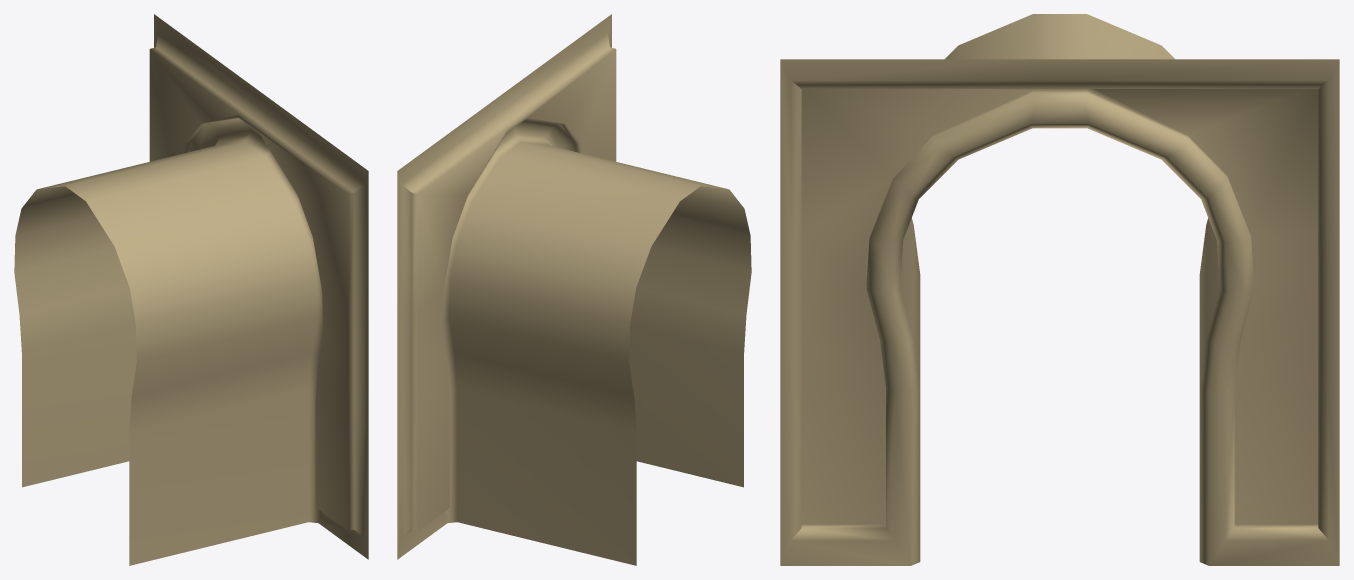
Rendered from Maze_DoorWall 1.fbx.
The picture shows the model from 3 angles, left to right: view 1: azimuth 30°, elevation 25°; view 2: azimuth 150°, elevation 25°; view 3: azimuth 270°, elevation 25°; orthographic projection. The views are drawn at different scales.
Visible parts, largest first — view 1: pPlane3; view 2: pPlane3; view 3: pPlane3.
Boxes of the visible parts, left/top/right/bottom form: pPlane3: left=14, top=14, right=368, bottom=565; pPlane3: left=397, top=14, right=751, bottom=565; pPlane3: left=780, top=14, right=1339, bottom=565.
Size of the model in its own units: 150 by 300 by 300.
